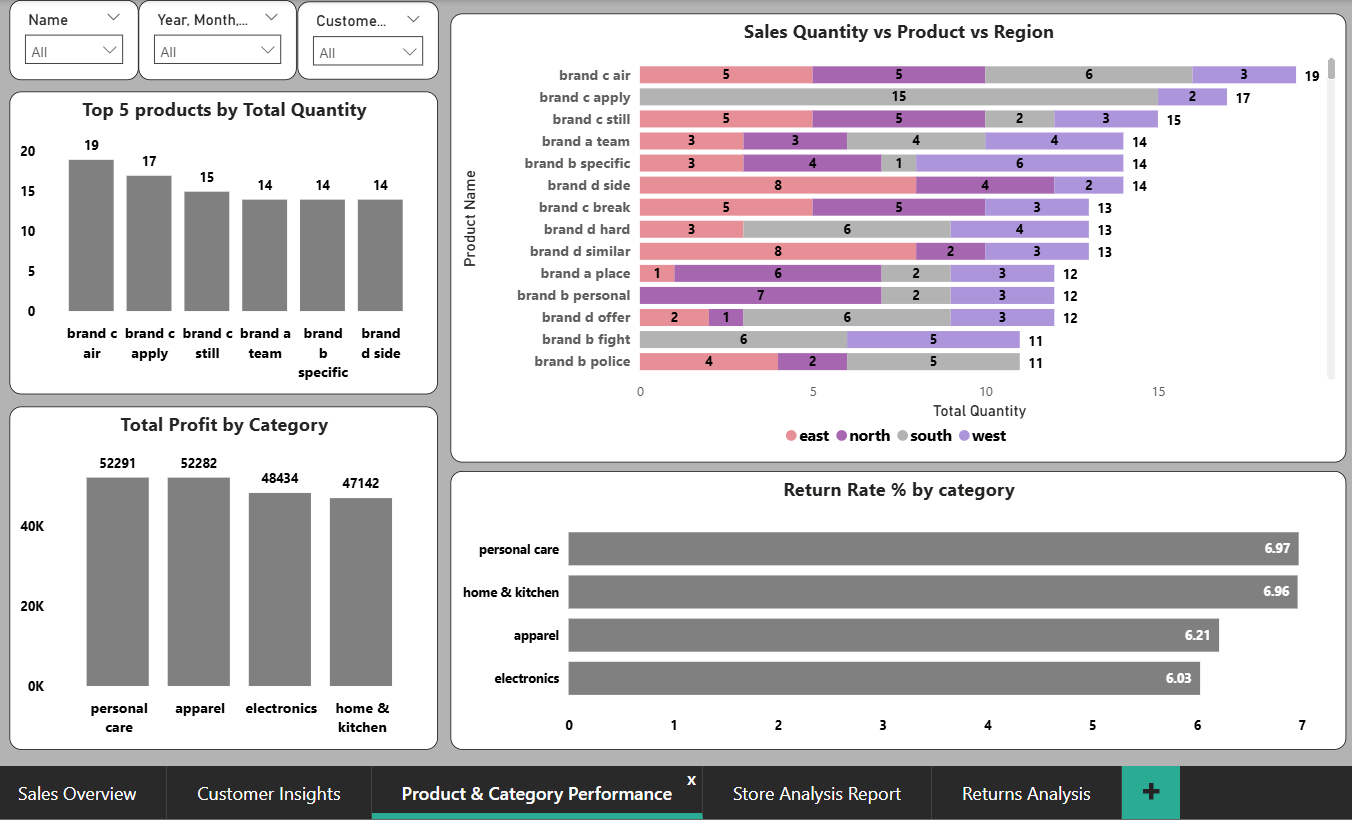

Layout of this report page (visuals, bound fields, positions):
{"tool":"powerbi","page":{"name":" Product & Category Performance","canvas":[1280,720],"ordinal":2},"visuals":[{"type":"columnChart","title":"Total Profit by Category","fields":{"Category":["retail_store products.category"],"Y":["retail_store customers.Total Profit"]},"box":[12.8,381.8,402.6,322.7],"z":0},{"type":"columnChart","title":"Top 5 products by Total Quantity","fields":{"Category":["retail_store products.product_name"],"Y":["retail_store customers.Total Quantity"]},"box":[12.8,86.3,402.6,284.4],"z":1000},{"type":"barChart","title":"Sales Quantity vs Product vs Region ","fields":{"Category":["retail_store products.product_name"],"Series":["retail_store customers.region"],"Y":["retail_store customers.Total Quantity"]},"box":[426.6,12.8,842,421.8],"z":2000},{"type":"clusteredBarChart","fields":{"Category":["retail_store products.category"],"Y":["retail_store customers.Return Rate %"]},"box":[426.6,442.6,842,262],"z":3000},{"type":"slicer","fields":{"Values":["retail_store customers.first_name"]},"box":[12.8,0,121.4,75.1],"z":4000},{"type":"slicer","fields":{"Values":["retail_store customers.signup_date.Variation.Date Hierarchy.Year","retail_store customers.signup_date.Variation.Date Hierarchy.Month","retail_store customers.signup_date.Variation.Date Hierarchy.Day"]},"box":[134.2,0,148.6,75.1],"z":5000},{"type":"slicer","fields":{"Values":["retail_store customers.customer_id"]},"box":[282.8,1.6,132.6,73.5],"z":6000}]}

Visuals, with their boxes on the page's 1280x720 design canvas (x1, y1, x2, y2). These are canvas units, not pixel positions in the 1352x820 screenshot, which may show the page scaled, cropped or inside an application window:
"Total Profit by Category" columnChart: BBox(13, 382, 415, 704)
"Top 5 products by Total Quantity" columnChart: BBox(13, 86, 415, 371)
"Sales Quantity vs Product vs Region " barChart: BBox(427, 13, 1269, 435)
clusteredBarChart - retail_store products.category x retail_store customers.Return Rate %: BBox(427, 443, 1269, 705)
slicer - retail_store customers.first_name: BBox(13, 0, 134, 75)
slicer - retail_store customers.signup_date.Variation.Date Hierarchy.Year x retail_store customers.signup_date.Variation.Date Hierarchy.Month: BBox(134, 0, 283, 75)
slicer - retail_store customers.customer_id: BBox(283, 2, 415, 75)
